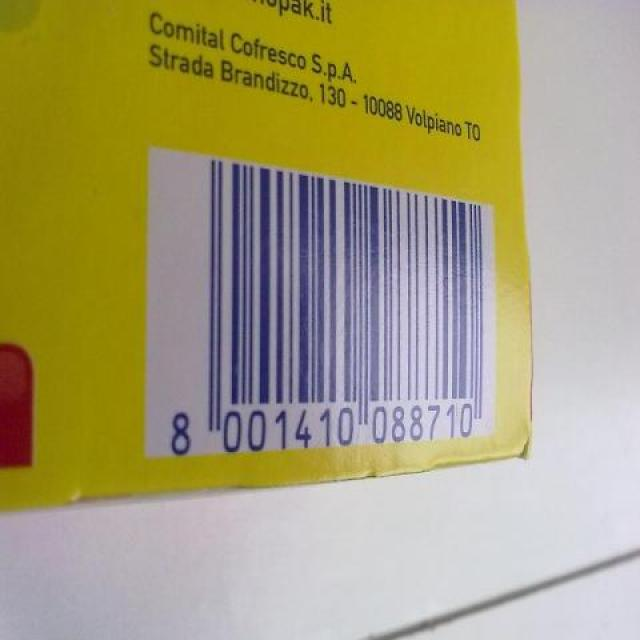Barcode: (145, 144, 492, 460)
